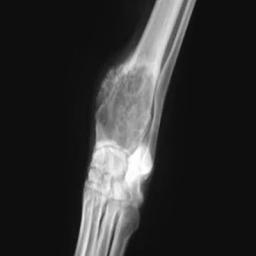cancer: (95, 29, 161, 151)
